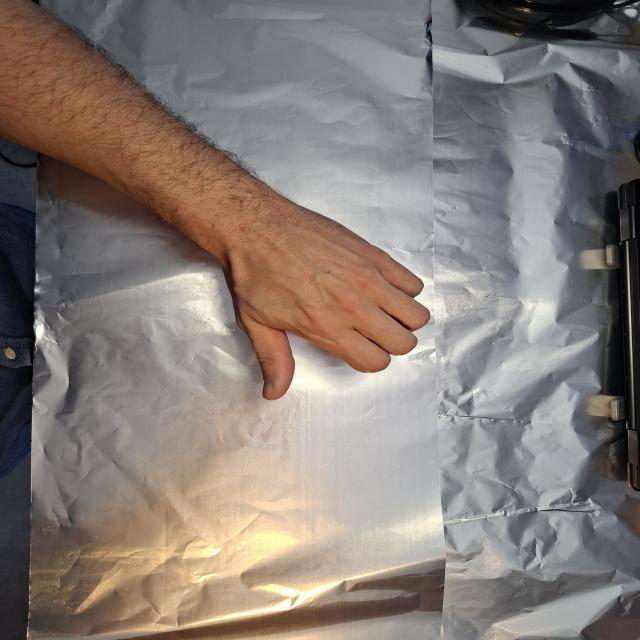glove_off: (197, 198, 434, 402)
